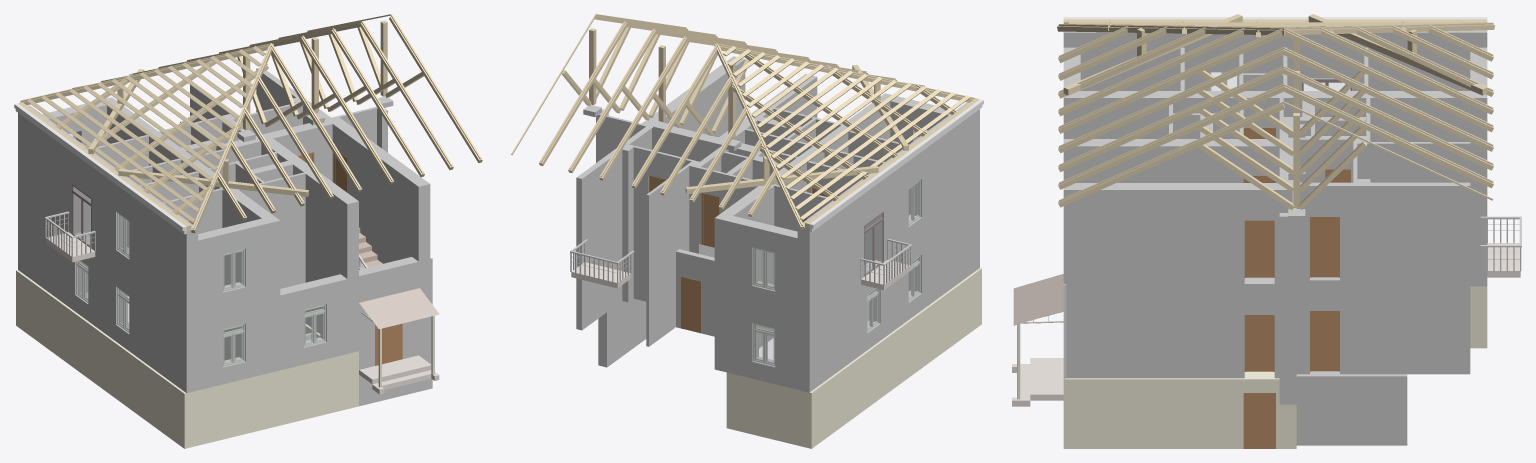
Rendered from Донецкая 4 Маленькая модель.glb.
The picture shows the model from 3 angles, left to right: view 1: azimuth 30°, elevation 25°; view 2: azimuth 150°, elevation 25°; view 3: azimuth 270°, elevation 25°; orthographic projection. The views are drawn at different scales.
Parts seen in each view (by area): view 1: 0bywryP$13j9QI0Zay7Dnr, 3noYL3CP59GOU$V_78FuKy, 2Y5DeURsPAZg2U80wtilaH, 09hwYAm0vFNfLGWXBiu1hQ, 1q_adXVc1C0v8cejjrDYgD, 1dUbNJ9ob5WOF$fzVCGMV_, 0qaq08Z39A99HKWKHYClgu, 00sotmaazDlOgb25ETxTpz, 1Dq22Dk0P4N8feUqrzWEIB, 20wrkDgbb9COYMwxxHNKRF, 3UlzdLrsb58xIqVeBY2tj$, 1BjdqwIfbFKACvC9VWdJYc (+54 smaller); view 2: 3noYL3CP59GOU$V_78FuKy, 2Y5DeURsPAZg2U80wtilaH, 09hwYAm0vFNfLGWXBiu1hQ, 3r7s0h_rb2CeRR449xi3Ks, 2PXO_wHBv9nvVFYu5G1Ave, 0C5R3Kfjf8DBtrYA8fWfsB, 15weQv8RPDCOkToxlggKf1, 20wrkDgbb9COYMwxxHNKRF, 1nIsiEKub1gPhIt0ttY9MP, 1elP2tTefAQhiqqv_82XL2, 1qqDuCCGr47gjtn23XDXhg, 1dUbNJ9ob5WOF$fzVCGMV_ (+56 smaller); view 3: 1dUbNJ9ob5WOF$fzVCGMV_, 3JjLP64UT2UA0g5bp3U_4x, 04RX0zAdP1SAWjS6OgEyxD, 15weQv8RPDCOkToxlggKf1, 1nIsiEKub1gPhIt0ttY9MP, 20wrkDgbb9COYMwxxHNKRF, 1elP2tTefAQhiqqv_82XL2, 3noYL3CP59GOU$V_78FuKy, 1Dq22Dk0P4N8feUqrzWEIB, 2PUZubhbXEwv_ZxkA3qeDp, 0bORjMcXr1eg_dCDnRjYpa, 3kAVX$2NXEzhESHwOMrH$P (+65 smaller).
Part boxes in pixels (box(x1,y1,x2,y2)): 0bywryP$13j9QI0Zay7Dnr: box(186, 274, 358, 392); 3noYL3CP59GOU$V_78FuKy: box(18, 120, 186, 317); 2Y5DeURsPAZg2U80wtilaH: box(18, 195, 186, 392); 09hwYAm0vFNfLGWXBiu1hQ: box(16, 270, 184, 448); 1q_adXVc1C0v8cejjrDYgD: box(184, 351, 358, 448); 1dUbNJ9ob5WOF$fzVCGMV_: box(332, 121, 430, 261); 0qaq08Z39A99HKWKHYClgu: box(186, 218, 280, 318); 00sotmaazDlOgb25ETxTpz: box(359, 257, 432, 406); 1Dq22Dk0P4N8feUqrzWEIB: box(261, 138, 358, 278); 20wrkDgbb9COYMwxxHNKRF: box(107, 97, 279, 276); 3UlzdLrsb58xIqVeBY2tj$: box(224, 116, 343, 181); 1BjdqwIfbFKACvC9VWdJYc: box(238, 172, 305, 254); 3noYL3CP59GOU$V_78FuKy: box(809, 116, 979, 316); 2Y5DeURsPAZg2U80wtilaH: box(809, 192, 979, 391); 09hwYAm0vFNfLGWXBiu1hQ: box(811, 268, 981, 448); 3r7s0h_rb2CeRR449xi3Ks: box(714, 216, 809, 316); 2PXO_wHBv9nvVFYu5G1Ave: box(714, 294, 809, 392); 0C5R3Kfjf8DBtrYA8fWfsB: box(726, 372, 811, 448); 15weQv8RPDCOkToxlggKf1: box(576, 148, 622, 253); 20wrkDgbb9COYMwxxHNKRF: box(715, 93, 890, 272); 1nIsiEKub1gPhIt0ttY9MP: box(576, 225, 622, 330); 1elP2tTefAQhiqqv_82XL2: box(598, 298, 646, 367); 1qqDuCCGr47gjtn23XDXhg: box(646, 252, 675, 346); 1dUbNJ9ob5WOF$fzVCGMV_: box(649, 56, 745, 137); 1dUbNJ9ob5WOF$fzVCGMV_: box(1063, 183, 1279, 283); 3JjLP64UT2UA0g5bp3U_4x: box(1066, 277, 1279, 378); 04RX0zAdP1SAWjS6OgEyxD: box(1063, 371, 1296, 448); 15weQv8RPDCOkToxlggKf1: box(1370, 182, 1470, 280); 1nIsiEKub1gPhIt0ttY9MP: box(1370, 280, 1470, 374); 20wrkDgbb9COYMwxxHNKRF: box(1063, 91, 1487, 191); 1elP2tTefAQhiqqv_82XL2: box(1296, 371, 1407, 445); 3noYL3CP59GOU$V_78FuKy: box(1080, 47, 1470, 90); 1Dq22Dk0P4N8feUqrzWEIB: box(1063, 139, 1279, 182); 2PUZubhbXEwv_ZxkA3qeDp: box(1296, 277, 1353, 374); 0bORjMcXr1eg_dCDnRjYpa: box(1063, 30, 1487, 47); 3kAVX$2NXEzhESHwOMrH$P: box(1296, 182, 1353, 280).
Size of the model in its own units: 13.95 by 12.67 by 15.32.
